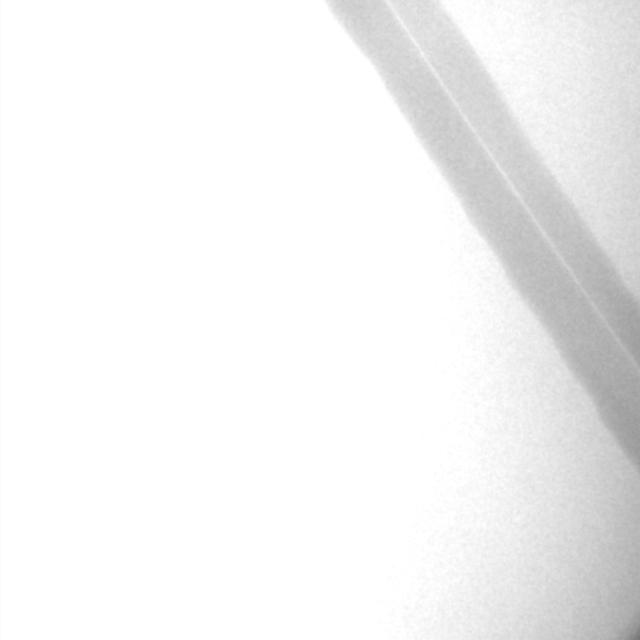broken arc: (388, 2, 636, 361)
